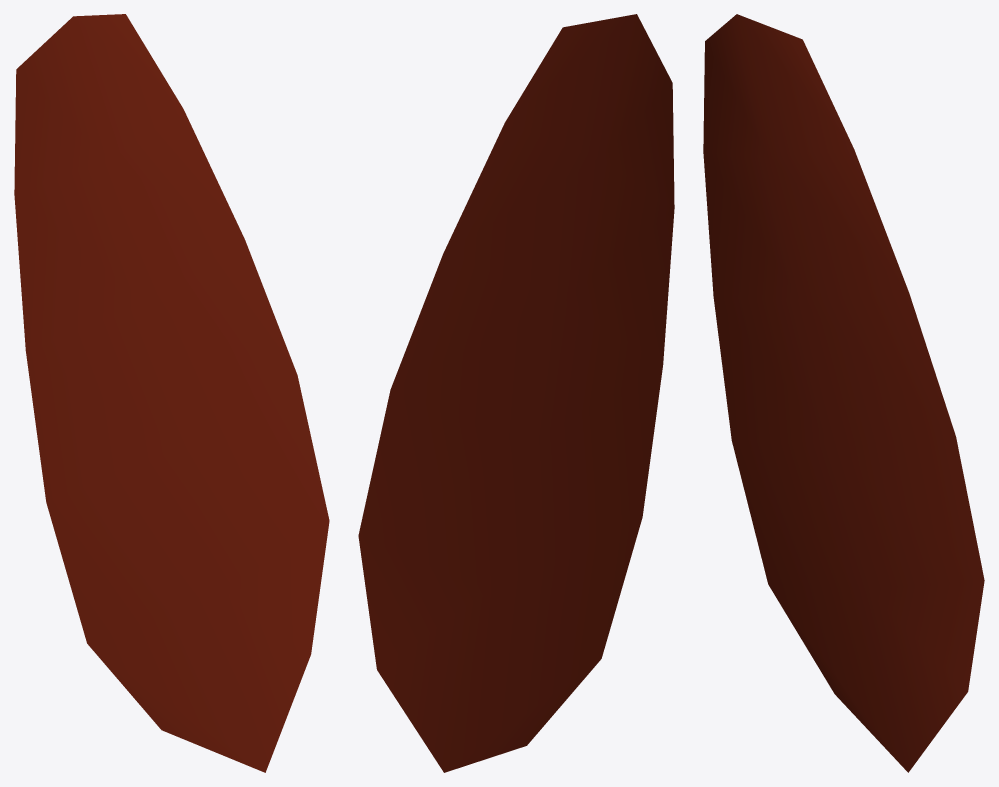
File: pheasant_feather_flight_tertiary_027.obj
The picture shows the model from 3 angles, left to right: view 1: azimuth 30°, elevation 25°; view 2: azimuth 150°, elevation 25°; view 3: azimuth 330°, elevation 25°; orthographic projection. The views are drawn at different scales.
Parts seen in each view (by area): view 1: feather_flight_tertiary_027; view 2: feather_flight_tertiary_027; view 3: feather_flight_tertiary_027.
Boxes of the visible parts, x1,y1,x2,y2 form: feather_flight_tertiary_027: (14,14,329,772); feather_flight_tertiary_027: (358,14,674,772); feather_flight_tertiary_027: (703,14,984,772).
Size of the model in its own units: 0.0108 by 0.0263 by 0.000634.
